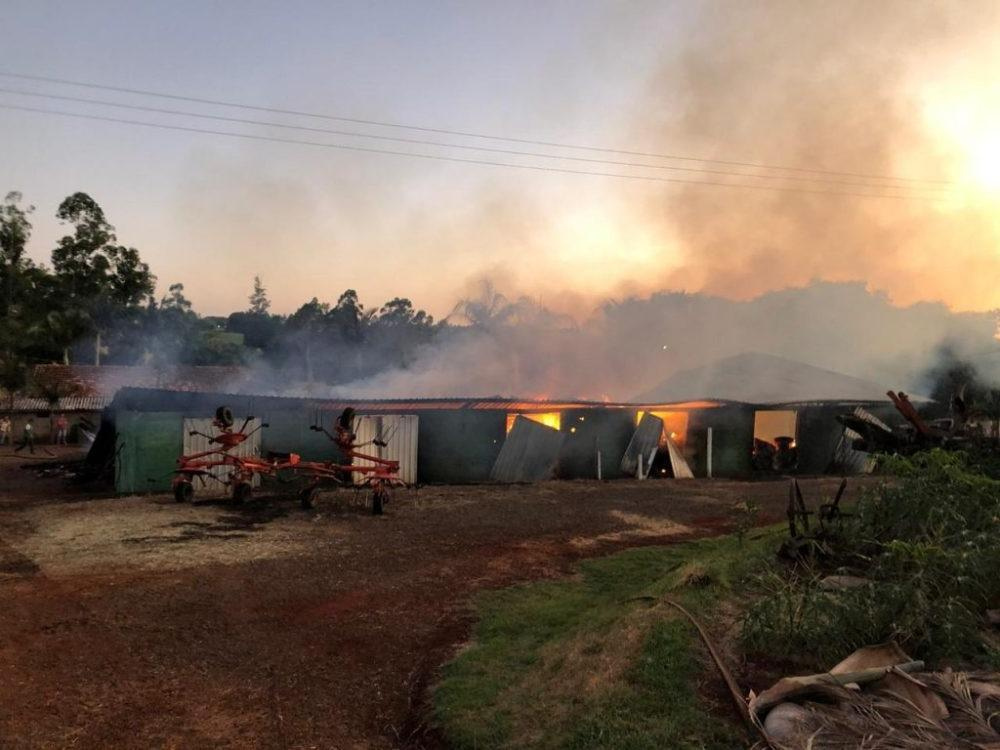Fire: (651, 401, 706, 422), (534, 410, 563, 430)
